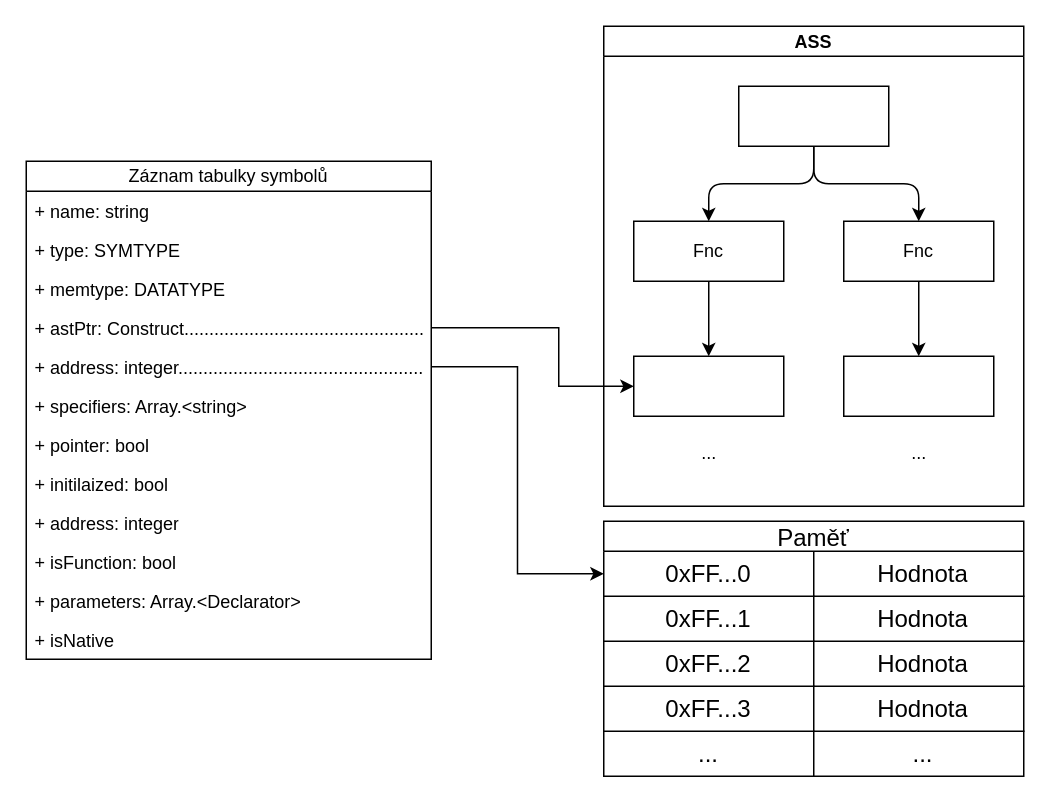
Image size: 1050x803. Some labels were removed from this diagram. The shapes that lost their labels are listed below. From the top down, each one's centre as x and y in pixels, then its label:
At (x=813, y=115): "AST".
At (x=708, y=385): "Declaration".
At (x=918, y=385): "FncCallExpr".
